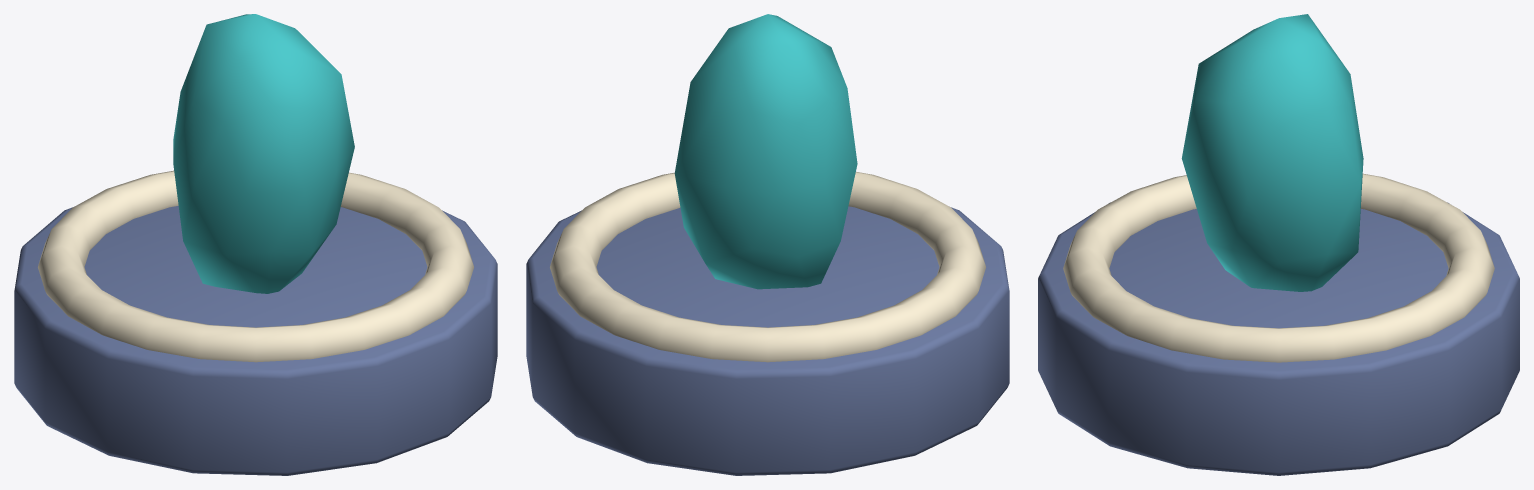
The model's file is r058_dungeon_crystal_pads_crystal_pad_01.glb.
3 views of the same model, side by side, from view 1: azimuth 30°, elevation 25°; view 2: azimuth 150°, elevation 25°; view 3: azimuth 270°, elevation 25° (orthographic).
Visible parts, largest first — view 1: r058_dungeon_crystal_pads_crystal_pad_01.001; view 2: r058_dungeon_crystal_pads_crystal_pad_01.001; view 3: r058_dungeon_crystal_pads_crystal_pad_01.001.
Boxes of the visible parts, x1=… form: r058_dungeon_crystal_pads_crystal_pad_01.001: x1=14, y1=14, x2=497, y2=475; r058_dungeon_crystal_pads_crystal_pad_01.001: x1=526, y1=14, x2=1009, y2=475; r058_dungeon_crystal_pads_crystal_pad_01.001: x1=1038, y1=14, x2=1519, y2=475.
Size of the model in its own units: 2.5 by 2.05 by 2.5.
